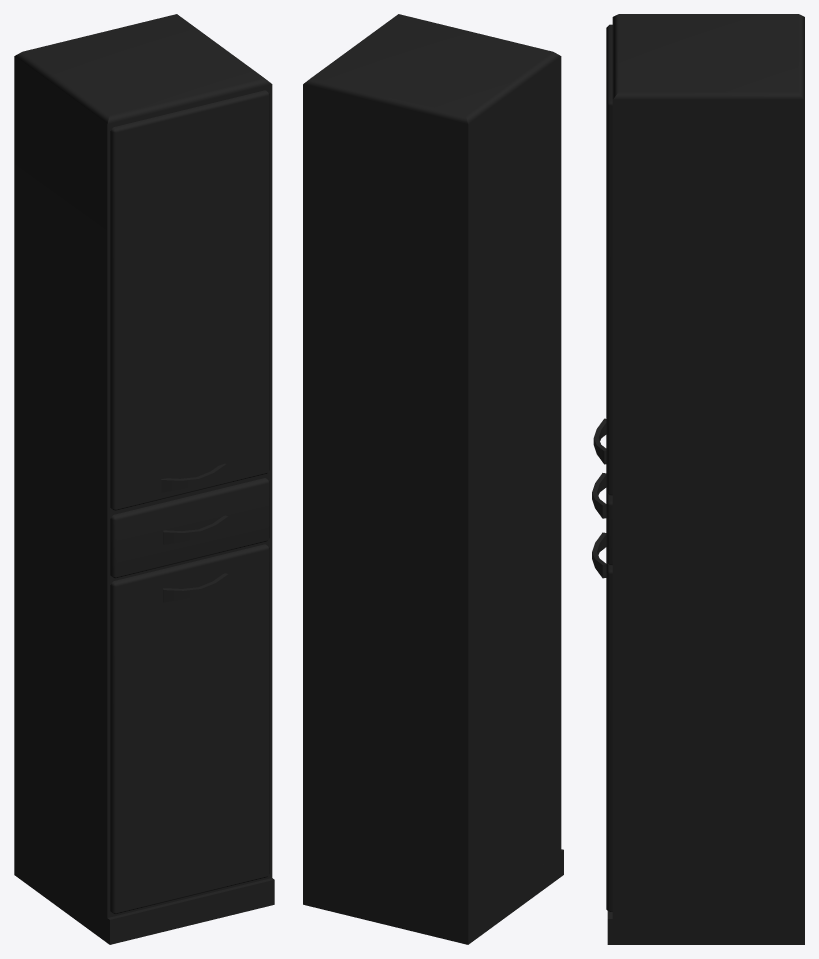
File: bathroom_032.fbx
3 renders of one model, left to right at view 1: azimuth 30°, elevation 25°; view 2: azimuth 150°, elevation 25°; view 3: azimuth 270°, elevation 25°, orthographic. The views are drawn at different scales.
Parts seen in each view (by area): view 1: bathroom_032; view 2: bathroom_032; view 3: bathroom_032.
Boxes of the visible parts, x1=… form: bathroom_032: x1=14, y1=14, x2=274, y2=944; bathroom_032: x1=303, y1=14, x2=563, y2=944; bathroom_032: x1=592, y1=14, x2=804, y2=944.
Size of the model in its own units: 50.5 by 54.74 by 241.
